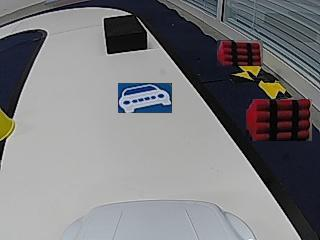block: (104, 15, 147, 53)
cone: (0, 112, 16, 140)
